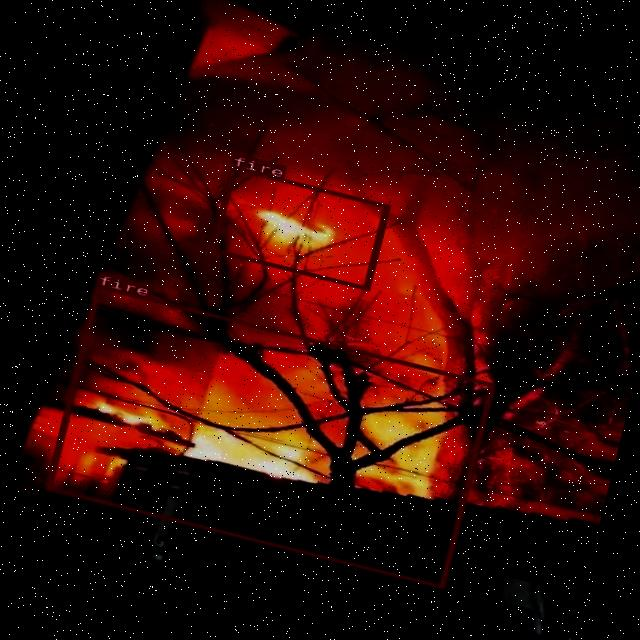fire: (44, 283, 494, 588), (208, 164, 390, 290)
